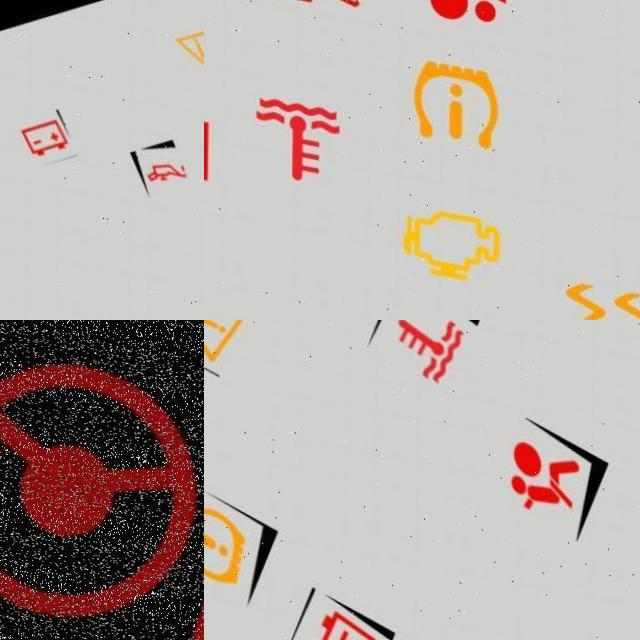Electronic Power Steering: (0, 320, 204, 640)
